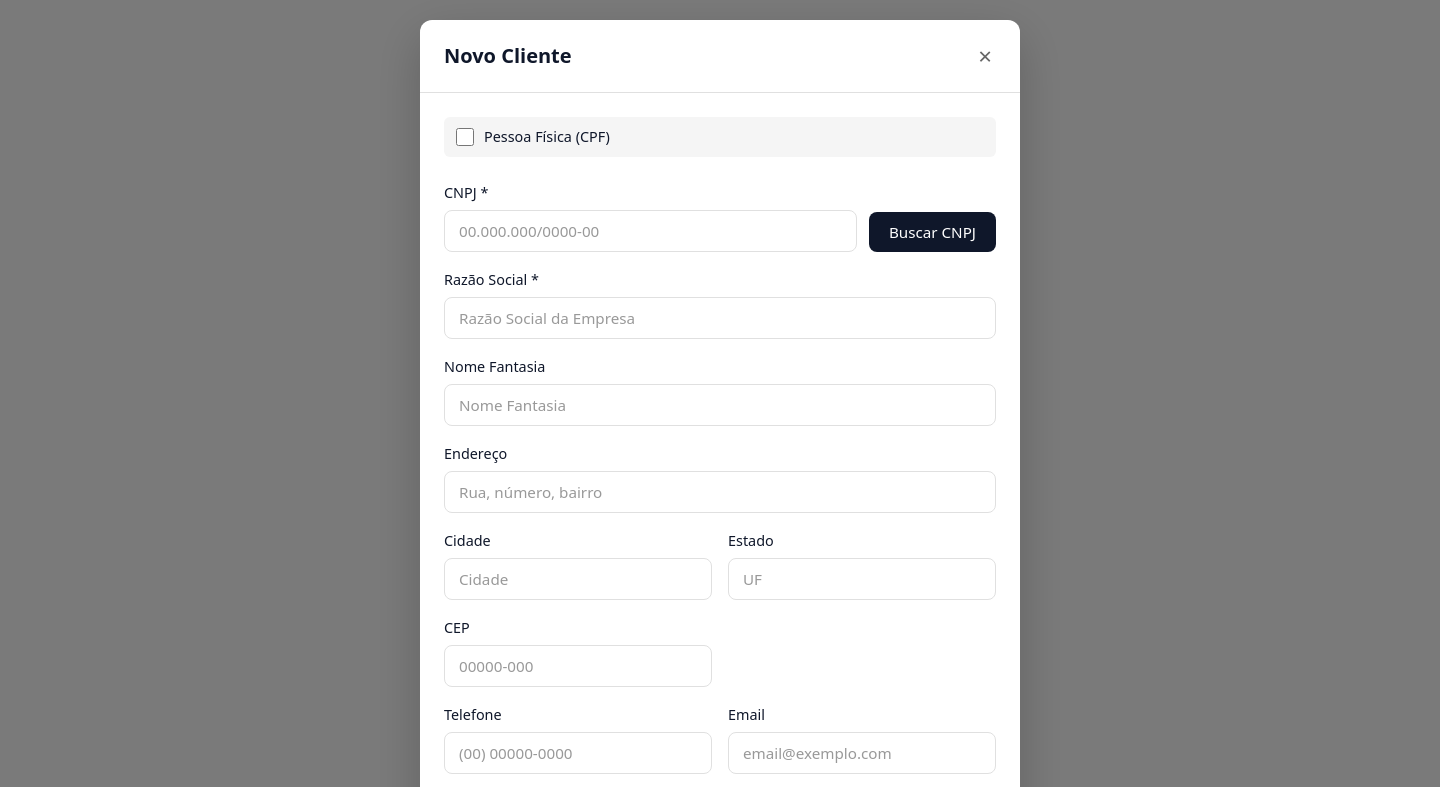
Test: ClienteModal › deve mostrar erro quando CNPJ não for encontrado
The image size is (1440, 787).
Type "12345678901234" into the field with placeholder "00.000.000/0000-00" at (650, 231), box [444,210,857,252]
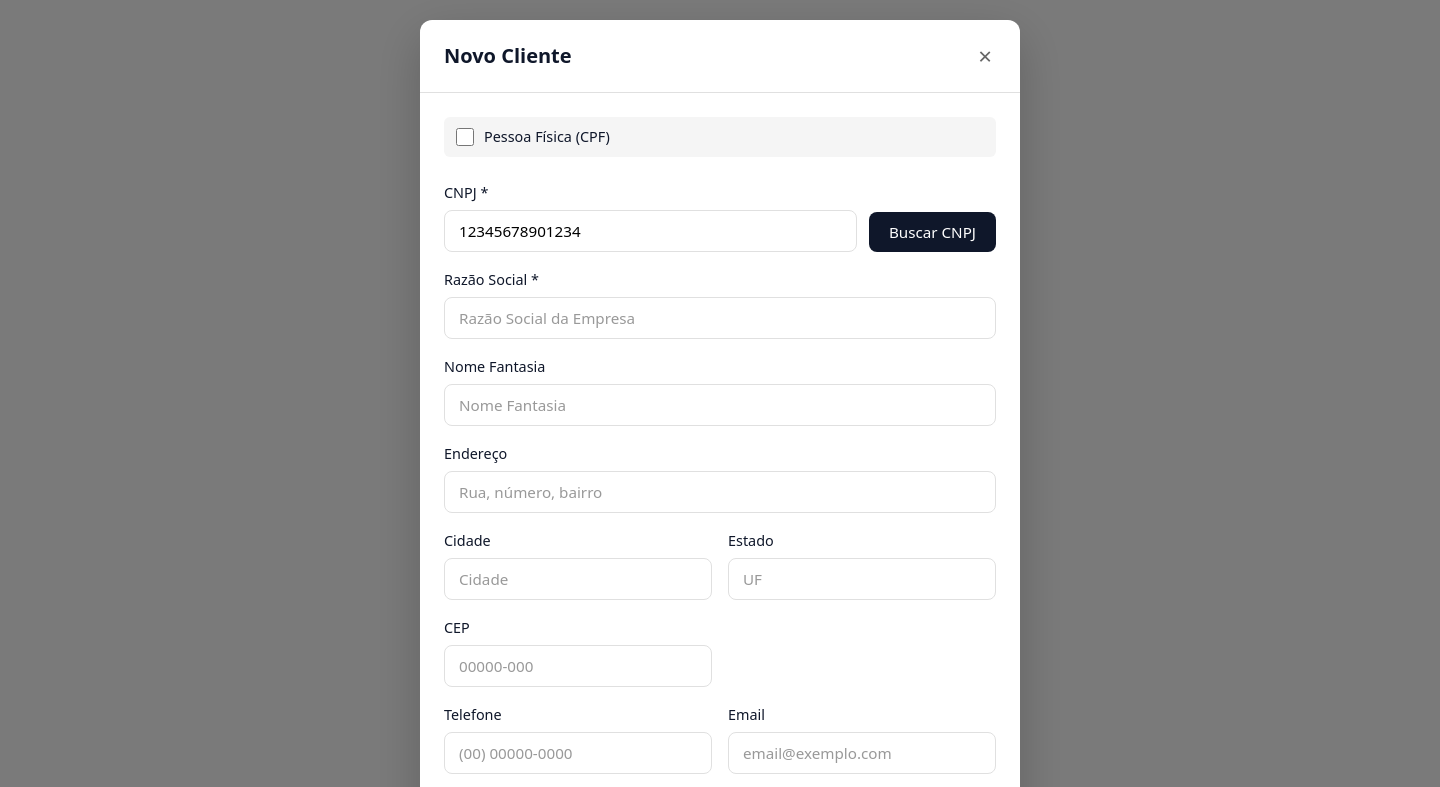
Click the button "Buscar CNPJ" at (932, 232), box [869,212,996,252]
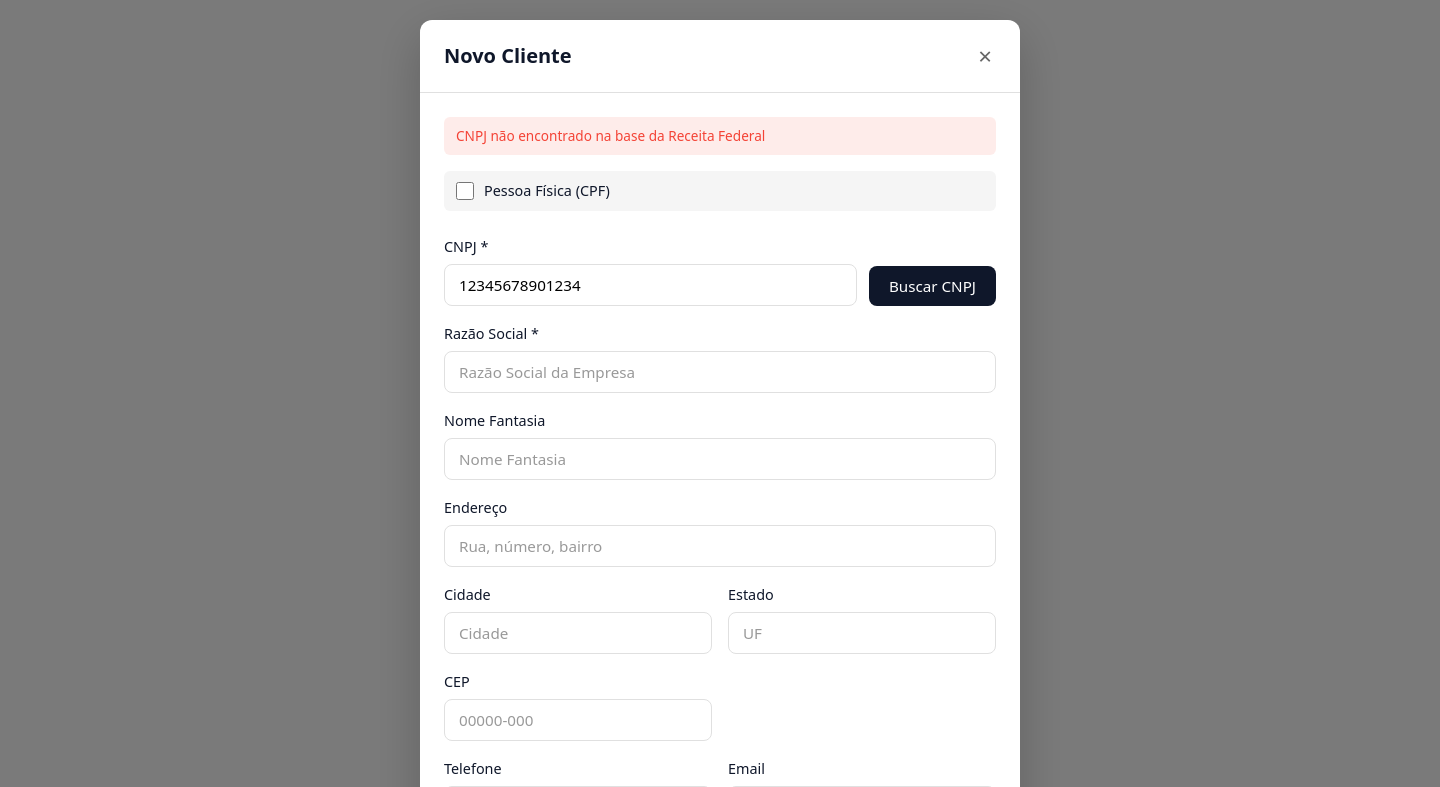
Now the text "CNPJ não encontrado na base da Receita Federal" is shown, box [444,117,996,155]
